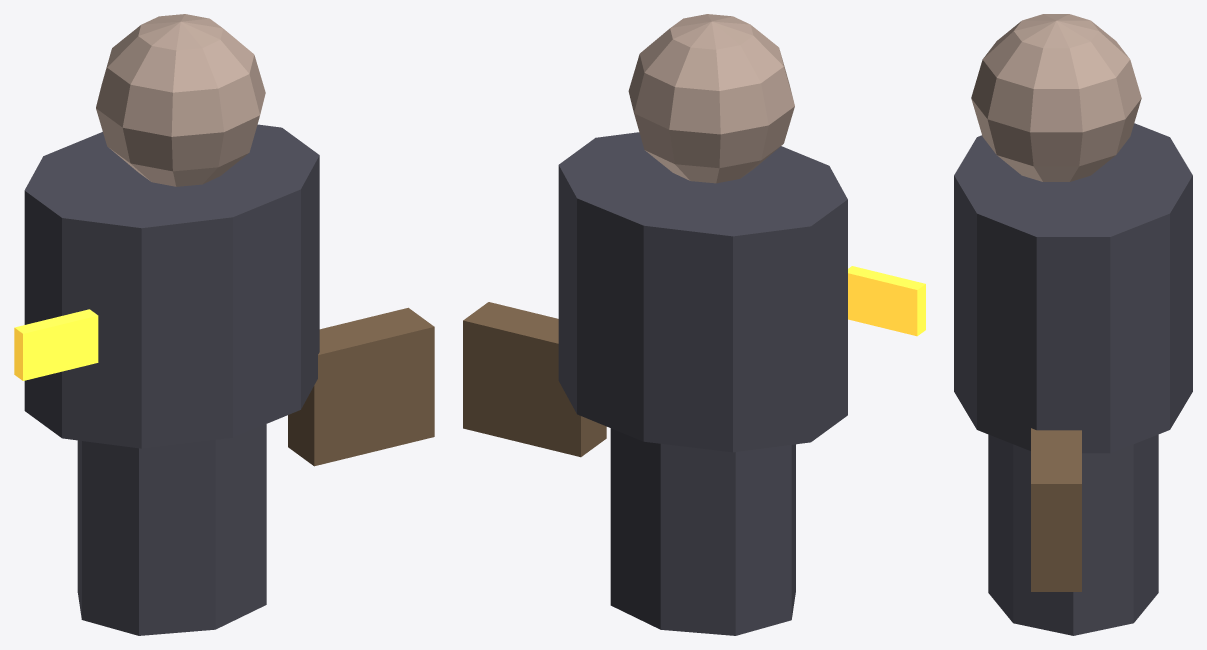
Rendered from director.glb.
3 renders of one model, left to right at view 1: azimuth 30°, elevation 25°; view 2: azimuth 150°, elevation 25°; view 3: azimuth 270°, elevation 25°, orthographic. The views are drawn at different scales.
Visible parts, largest first — view 1: BodyMesh, Bonus; view 2: BodyMesh, Bonus; view 3: BodyMesh.
Boxes of the visible parts, x1,y1,x2,y2 form: BodyMesh: (24,14,434,635); Bonus: (14,309,98,380); BodyMesh: (463,14,847,635); Bonus: (848,266,925,336); BodyMesh: (954,14,1192,635).
Bounding box in the file's own units: 0.57 × 0.74 × 0.28.
